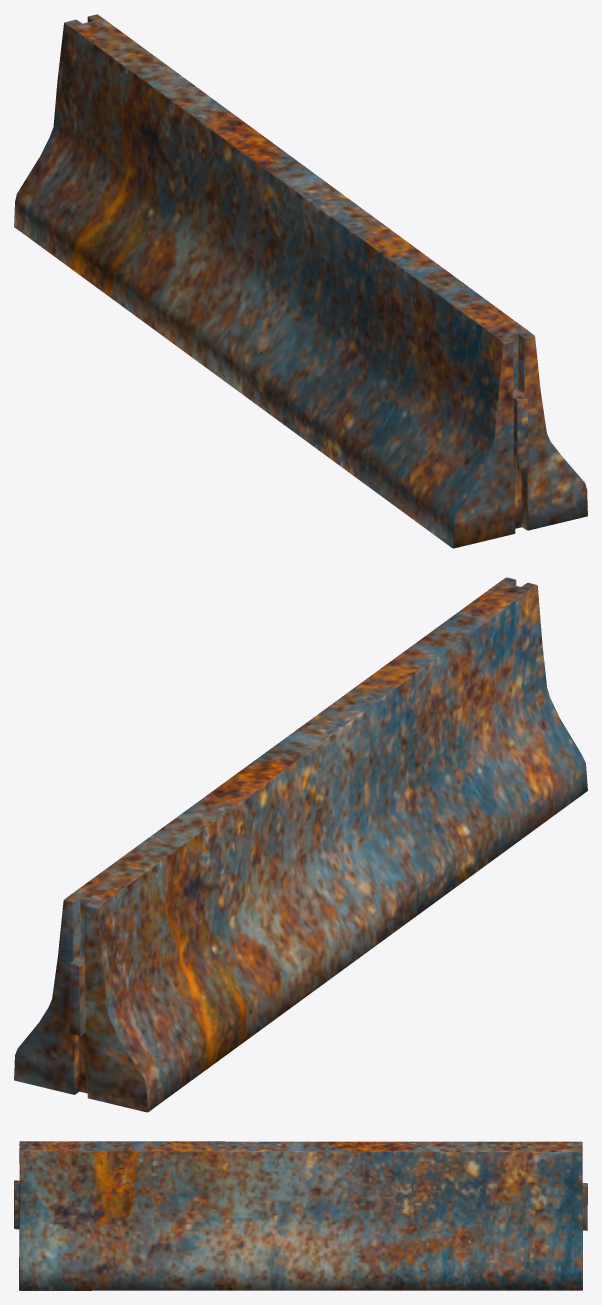
The model's file is barrier street.fbx.
3 views of the same model, one above another, from view 1: azimuth 30°, elevation 25°; view 2: azimuth 150°, elevation 25°; view 3: azimuth 270°, elevation 25° (orthographic). The views are drawn at different scales.
Visible parts, largest first — view 1: concrete barriers; view 2: concrete barriers; view 3: concrete barriers.
Part boxes in pixels (box(x1,y1,x2,y2)): concrete barriers: box(14, 14, 587, 548); concrete barriers: box(14, 577, 587, 1112); concrete barriers: box(14, 1141, 587, 1290).
Size of the model in its own units: 58.36 by 80.02 by 336.
